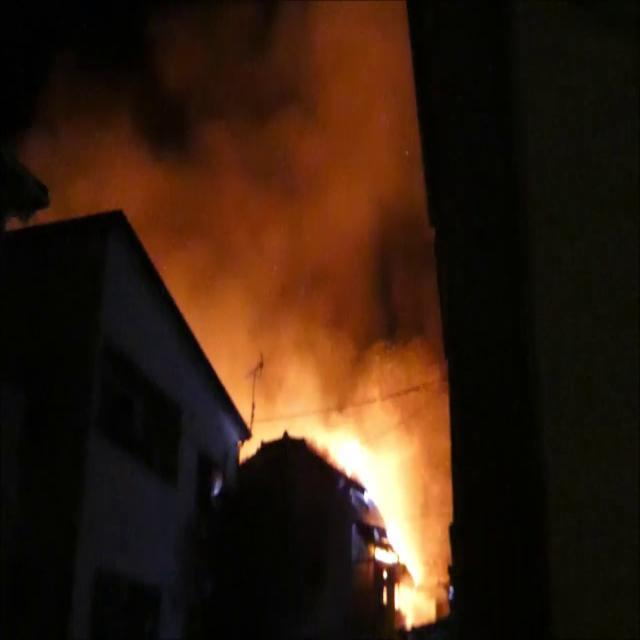Fire: (331, 400, 440, 628)
Smoke: (17, 0, 463, 398)
